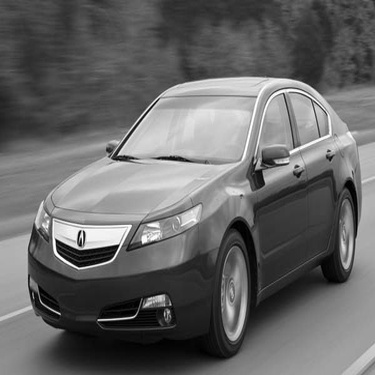car: (18, 66, 366, 361)
